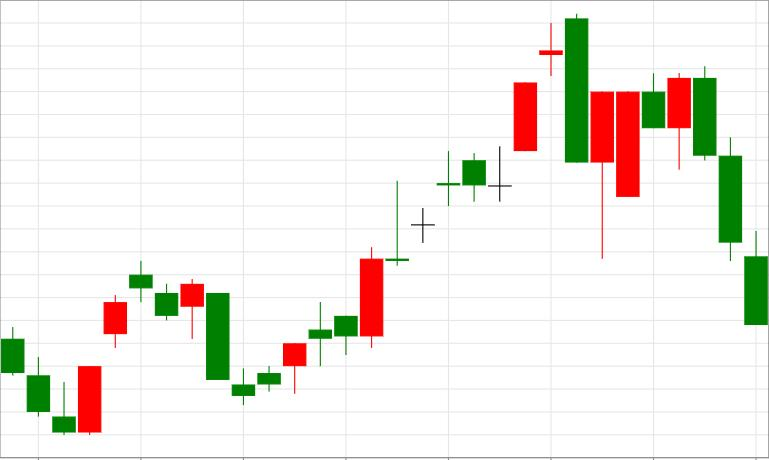bearish_engulfing_fall: (361, 15, 588, 349)
three_black_crows_fall: (361, 14, 769, 349)
